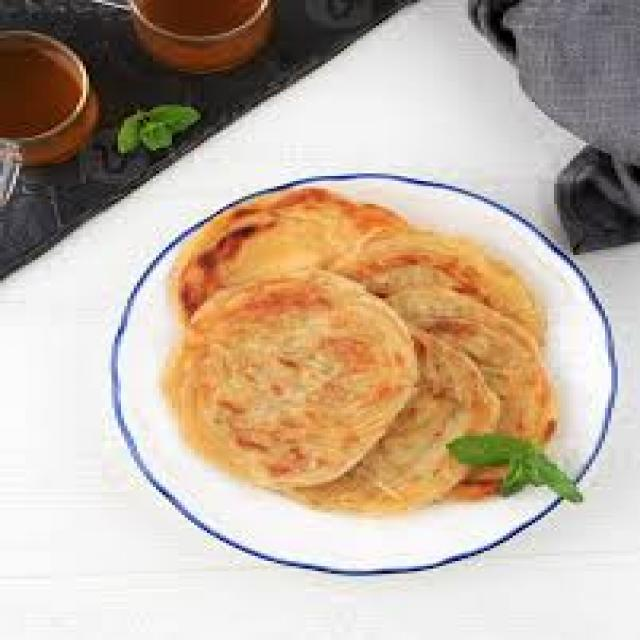Paratha: (200, 267, 415, 468), (380, 318, 502, 492)
